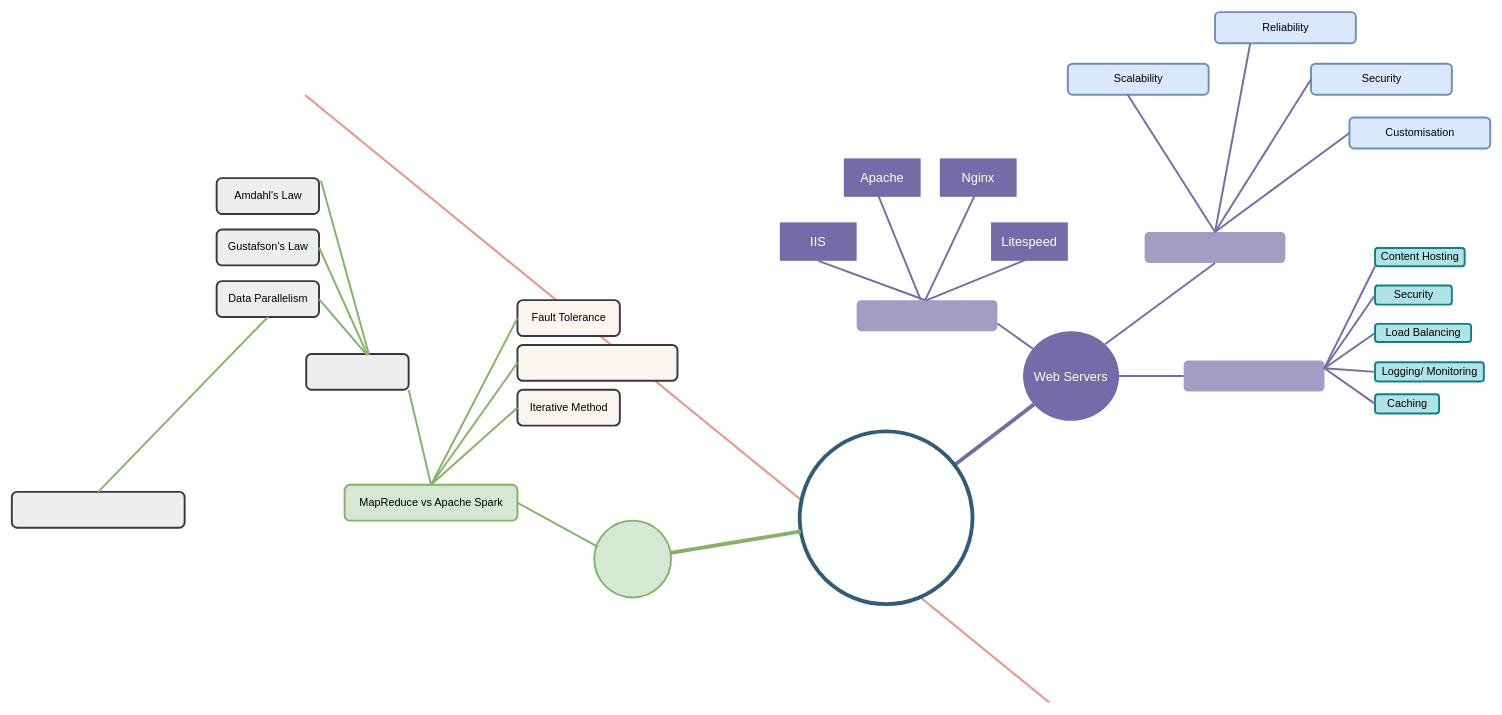
Image size: 1502x715. Some labels were removed from this diagram. The centre of each missing label's shape, as x and y in pixels:
"Databricks" goes at [632,558].
"Directed Acyclic Graph (DAG)" goes at [597,362].
"Examples" goes at [926,315].
"Features" goes at [1214,247].
"Functions" goes at [1253,375].
"Matrix Multiplication Example" goes at [98,509].
"Parallel Computing" goes at [357,371].
"Topics" goes at [885,517].
